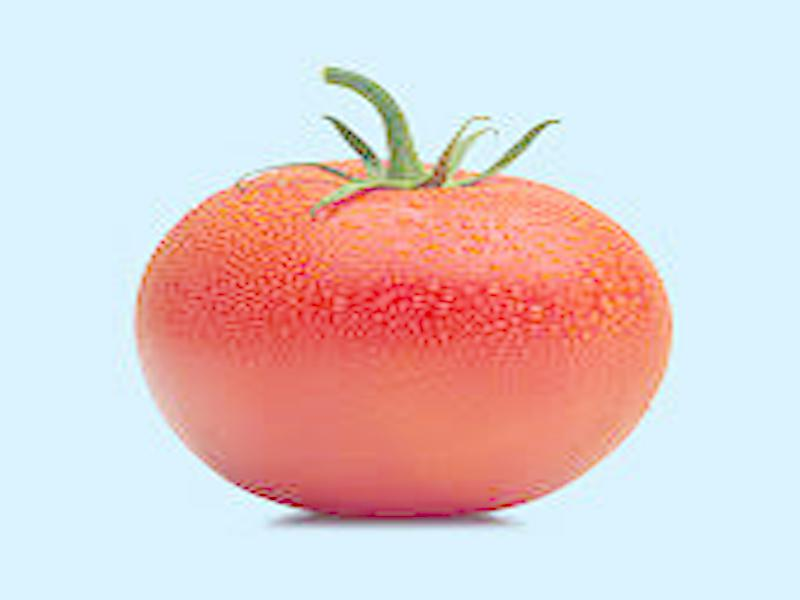Tomato: (136, 162, 673, 512)
